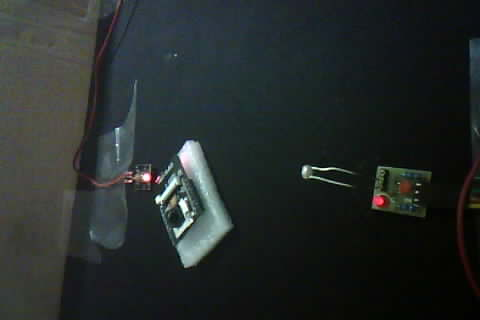esp32: (153, 143, 223, 266)
